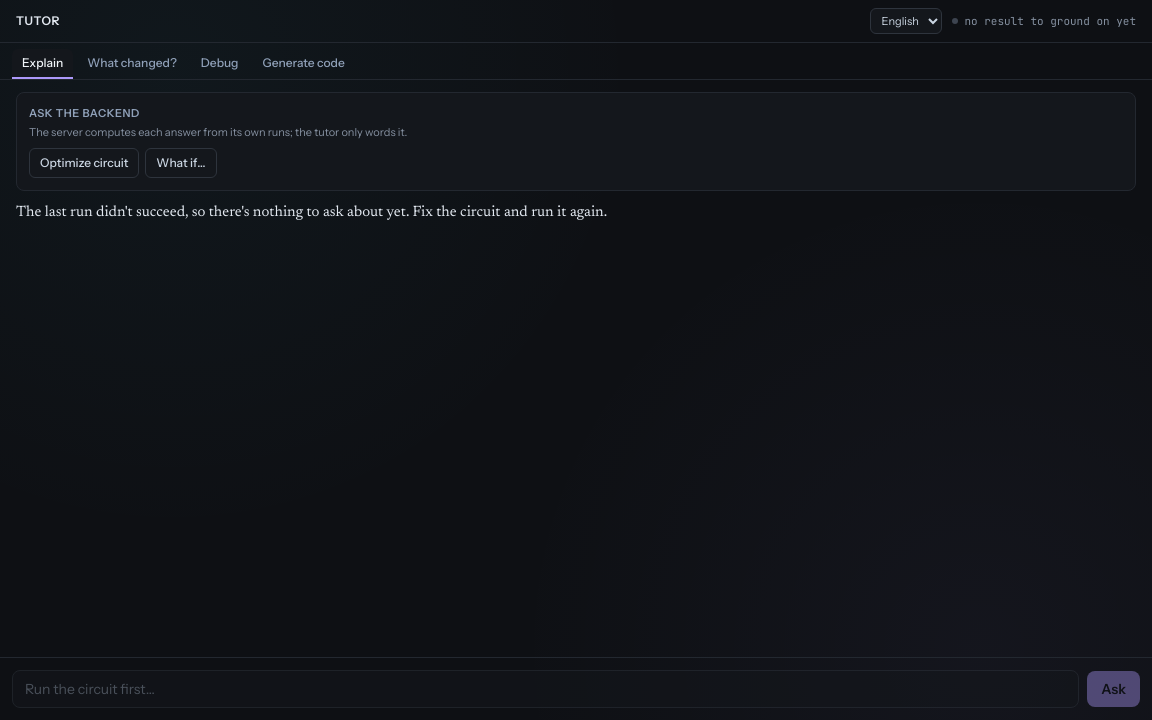
Optimize circuit › a refusal is shown as an error, with no answer
Click the button "Optimize circuit" at (84, 163), box [29, 148, 139, 178]
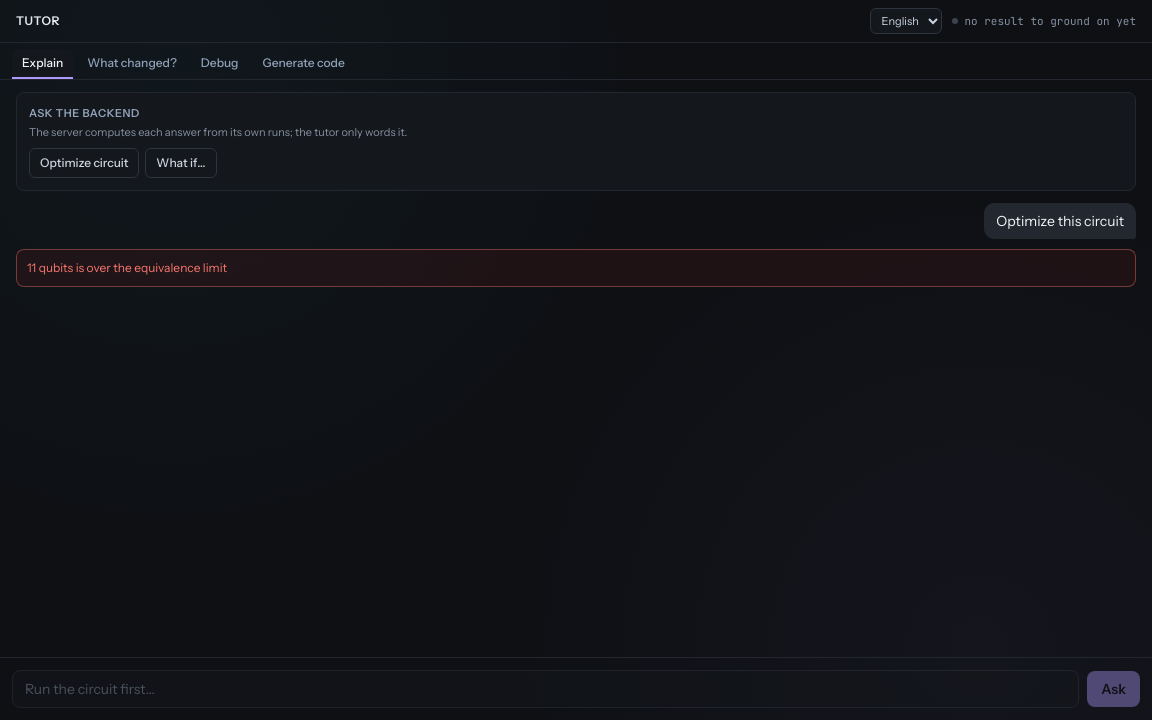
Expected: the message shows "over the equivalence limit", [27, 260, 227, 275]
